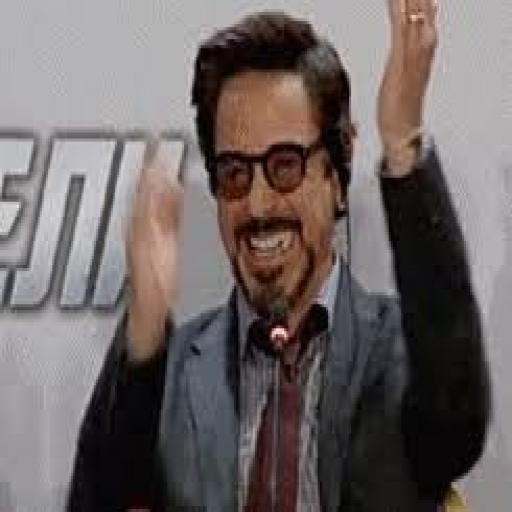laughing: (59, 0, 493, 509)
